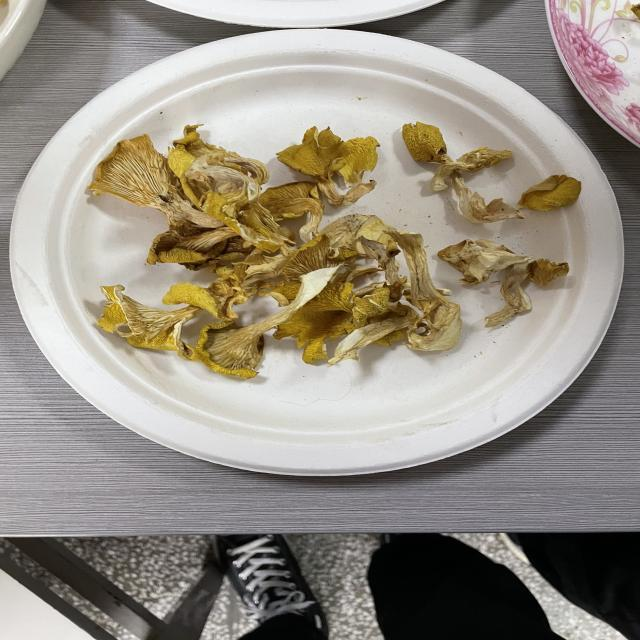Pleurotus citrinopileatus: (168, 133, 508, 416), (167, 42, 296, 181), (322, 54, 437, 155)
